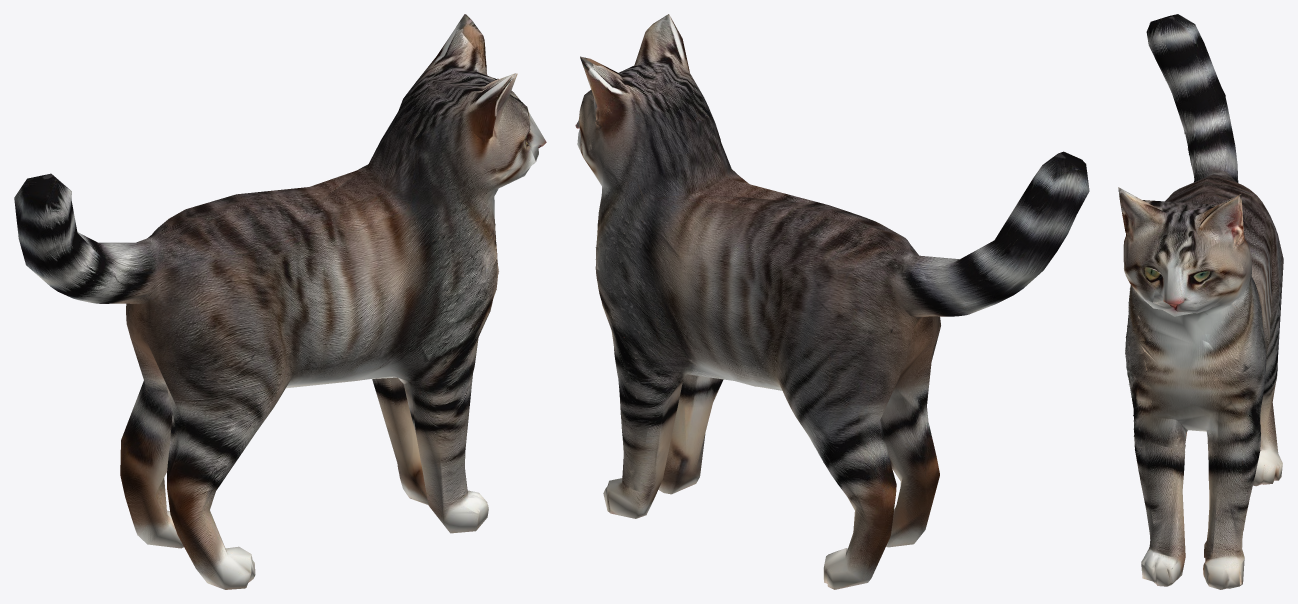
The model's file is FAITHCAT.glb.
3 renders of one model, left to right at view 1: azimuth 30°, elevation 25°; view 2: azimuth 150°, elevation 25°; view 3: azimuth 270°, elevation 25°, orthographic. The views are drawn at different scales.
Visible parts, largest first — view 1: fit; view 2: fit; view 3: fit.
Boxes of the visible parts, <box> form: fit: <box>14,14,546,589</box>; fit: <box>575,14,1089,589</box>; fit: <box>1118,14,1283,589</box>.
Size of the model in its own units: 1.18 by 1 by 0.3702.
Materials: 1 (1 with a texture image).
